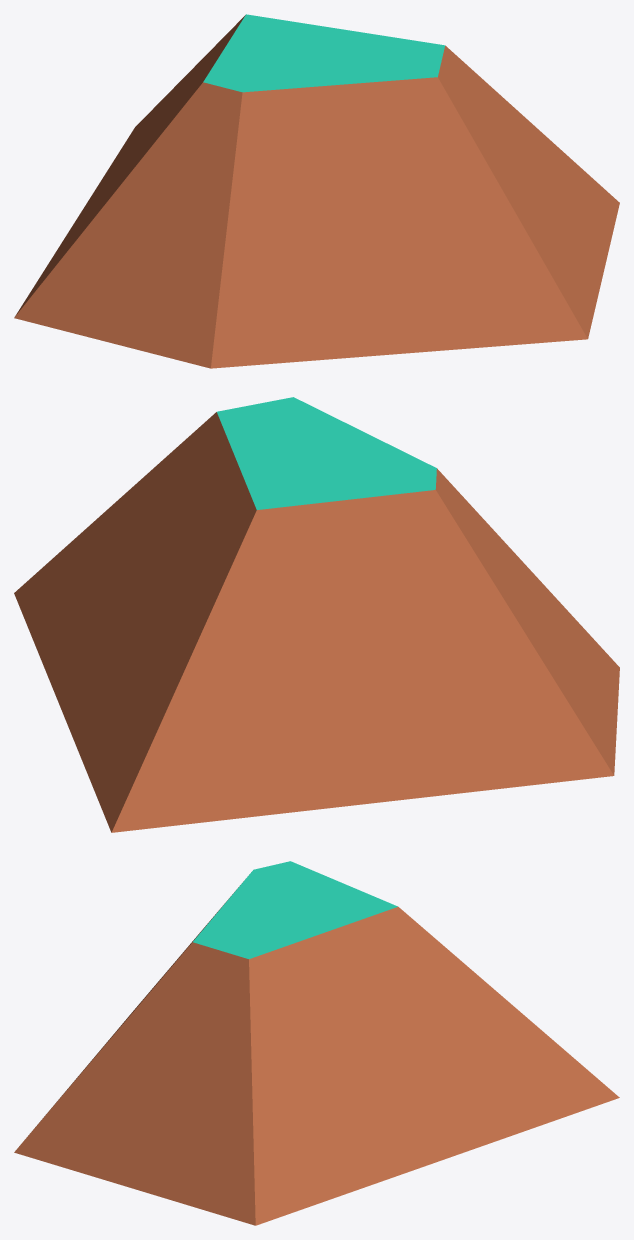
The model's file is rock.glb.
3 renders of one model, top to bottom at view 1: azimuth 30°, elevation 25°; view 2: azimuth 150°, elevation 25°; view 3: azimuth 270°, elevation 25°, orthographic. The views are drawn at different scales.
Parts seen in each view (by area): view 1: rock_smallC; view 2: rock_smallC; view 3: rock_smallC.
Part boxes in pixels (left/top/right/bottom): rock_smallC: left=14, top=14, right=619, bottom=368; rock_smallC: left=14, top=397, right=619, bottom=832; rock_smallC: left=14, top=861, right=619, bottom=1225.
Bounding box in the file's own units: 0.3608 × 0.1227 × 0.3608.
